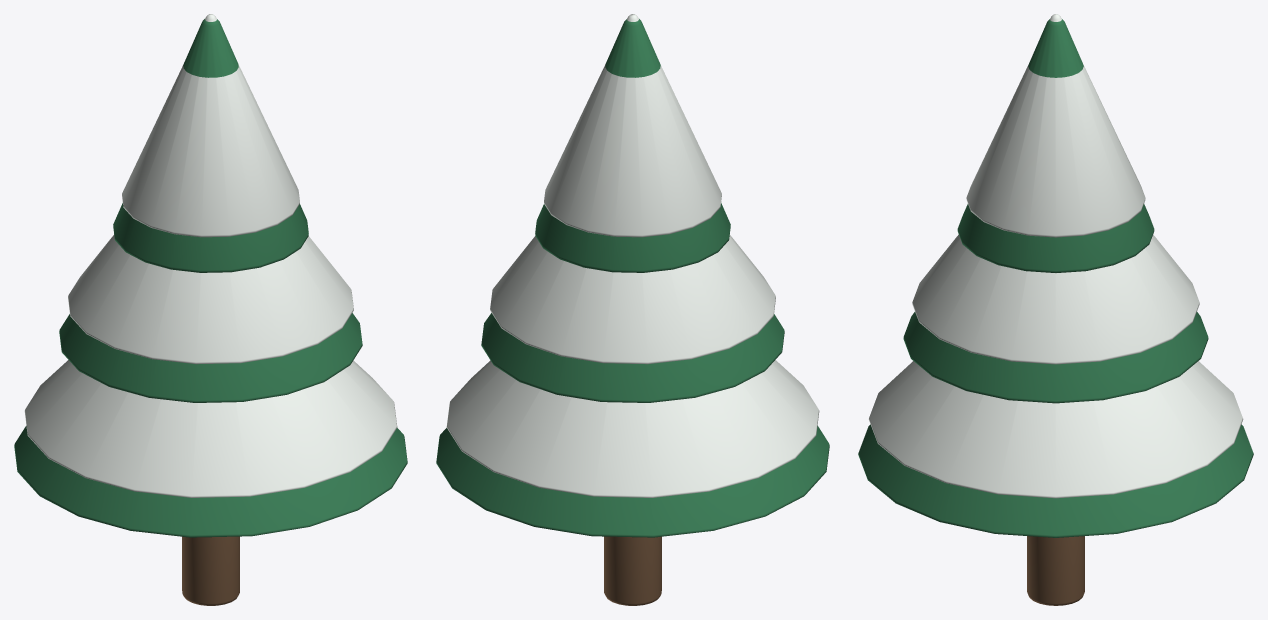
Rendered from pine.glb.
3 renders of one model, left to right at view 1: azimuth 30°, elevation 25°; view 2: azimuth 150°, elevation 25°; view 3: azimuth 270°, elevation 25°, orthographic.
Visible parts, largest first — view 1: Geometry_Snow, Geometry_Leaf, Geometry_Wood; view 2: Geometry_Snow, Geometry_Leaf, Geometry_Wood; view 3: Geometry_Snow, Geometry_Leaf, Geometry_Wood.
Part boxes in pixels (x1,y1,x2,y2): Geometry_Snow: (24, 14, 397, 497); Geometry_Leaf: (14, 19, 407, 537); Geometry_Wood: (182, 536, 239, 605); Geometry_Snow: (446, 14, 819, 497); Geometry_Leaf: (436, 19, 829, 537); Geometry_Wood: (604, 536, 661, 605); Geometry_Snow: (868, 14, 1243, 498); Geometry_Leaf: (858, 19, 1253, 537); Geometry_Wood: (1027, 536, 1084, 605).
Bounding box in the file's own units: 2.18 × 3.52 × 2.18.
